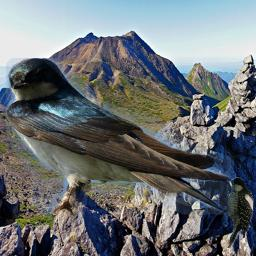Swallow: (6, 58, 234, 223)
Woodpecker: (226, 177, 254, 248)
